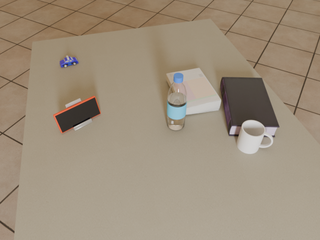book: (220, 77, 279, 137), (166, 68, 221, 114)
bottle: (167, 72, 187, 130)
cup: (237, 120, 273, 154)
phone: (53, 96, 101, 133)
toy_car: (60, 56, 78, 67)
